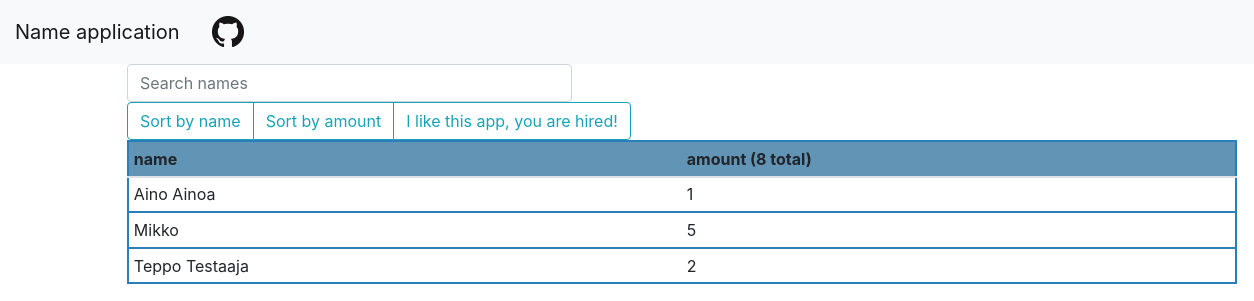
NameList › filtering works
The width and height of the screenshot is (1254, 301).
Check: the row "name amount (8 total)" is shown, box x1=128 y1=141 x2=1236 y2=177
Type "a" into the field at [350, 83], box x1=127 y1=64 x2=572 y2=102
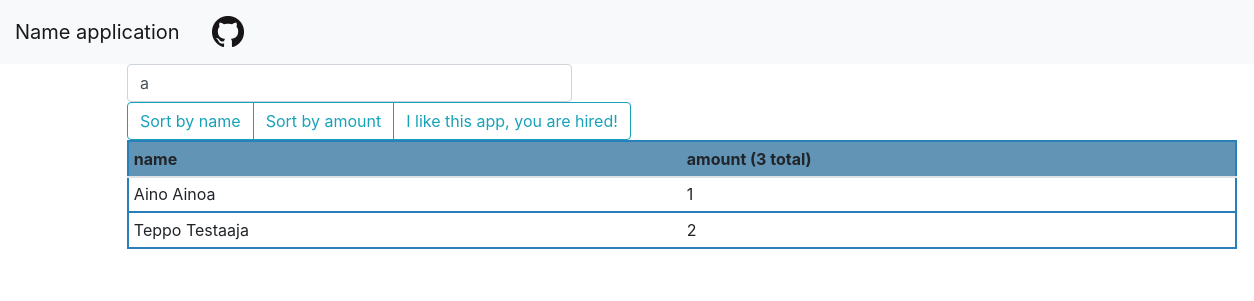
Check: the text "Teppo Testaaja" is shown, box x1=128 y1=212 x2=682 y2=248
Check: the number of rows is 3, box x1=128 y1=141 x2=1236 y2=177; x1=128 y1=177 x2=1236 y2=212; x1=128 y1=212 x2=1236 y2=248
Check: the row "name amount (3 total)" is shown, box x1=128 y1=141 x2=1236 y2=177
